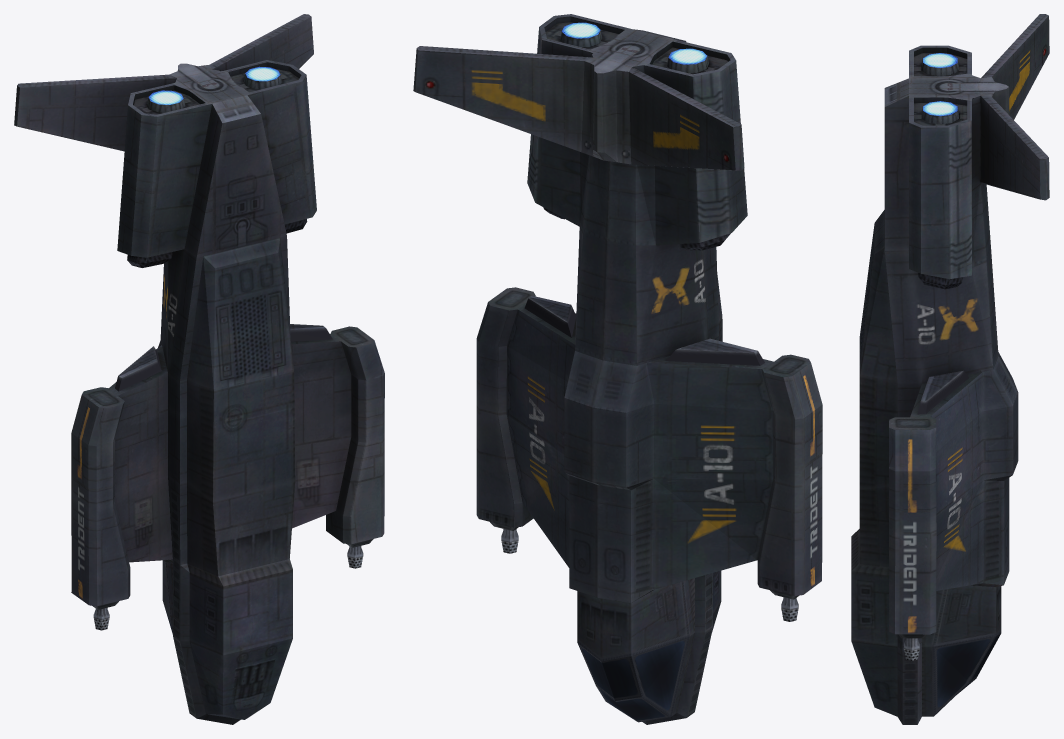
File: Ship1.obj
The picture shows the model from 3 angles, left to right: view 1: azimuth 30°, elevation 25°; view 2: azimuth 150°, elevation 25°; view 3: azimuth 270°, elevation 25°; orthographic projection. The views are drawn at different scales.
Visible parts, largest first — view 1: Trident_Space_Fighter; view 2: Trident_Space_Fighter; view 3: Trident_Space_Fighter.
Boxes of the visible parts, <box> form: Trident_Space_Fighter: <box>14,14,384,724</box>; Trident_Space_Fighter: <box>413,14,822,724</box>; Trident_Space_Fighter: <box>851,14,1049,724</box>.
Size of the model in its own units: 30.69 by 61.74 by 17.39.
Materials: 1 (1 with a texture image).
